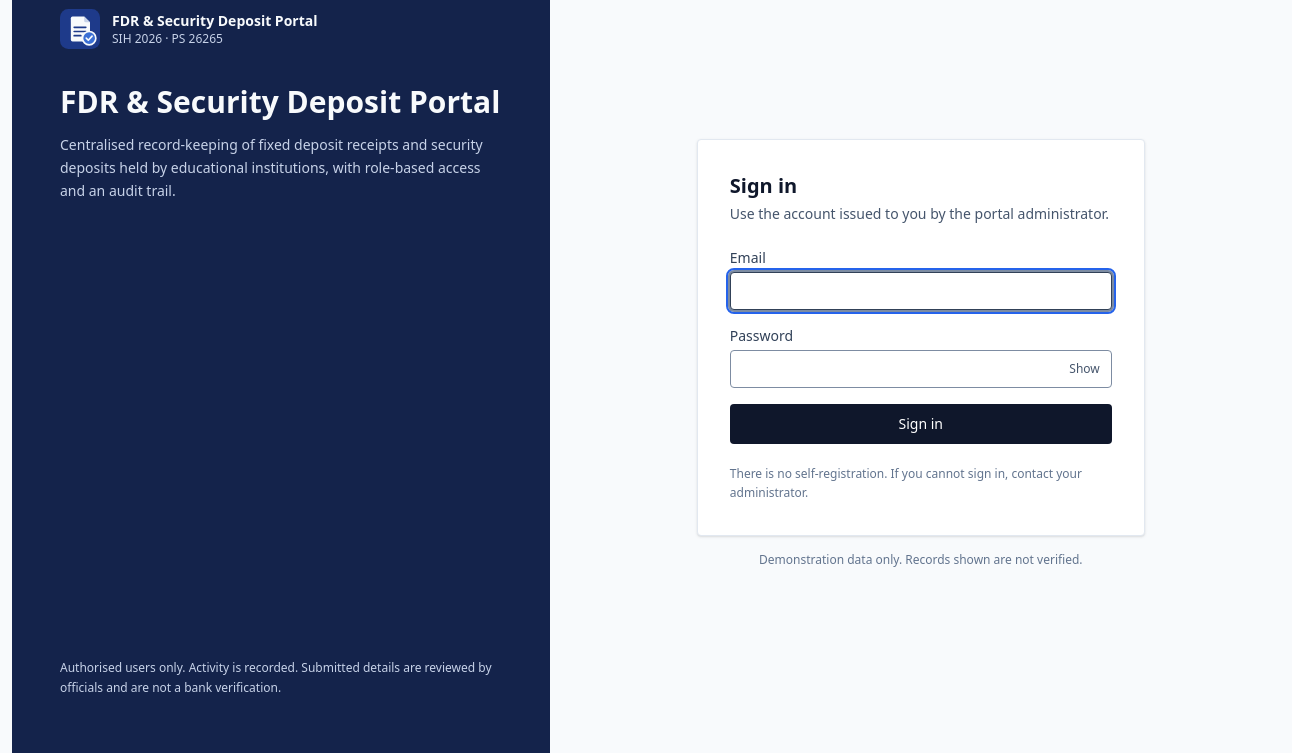
Scenario: returning to the requested page after sign-in › lands on the originally requested route
Type "officer@example.invalid" into the field labelled "Email".
click(921, 290); type("officer@example.invalid")  # box [730,272,1112,310]
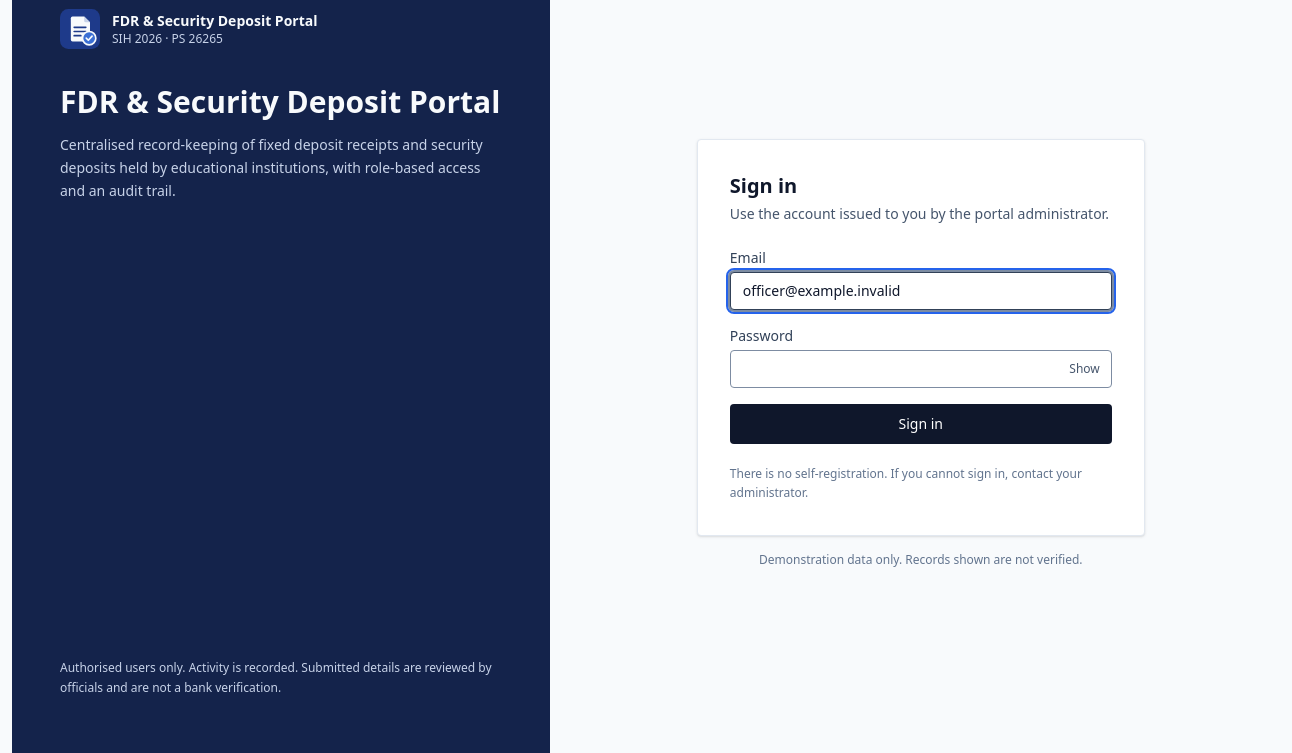
Type "a-long-enough-password" into the password field labelled "Password".
click(921, 368); type("a-long-enough-password")  # box [730,350,1112,388]
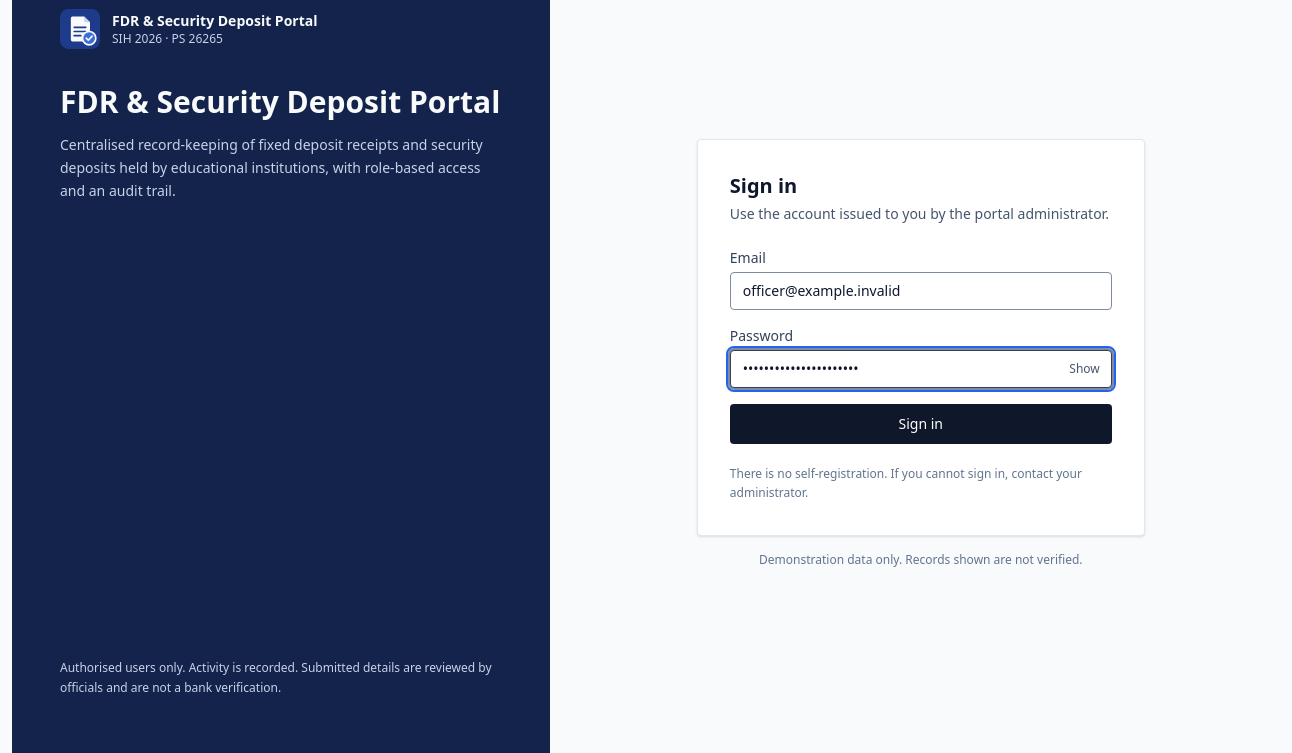
Click the button "Sign in".
click(921, 424)  # box [730,404,1112,444]
(page scrolled)
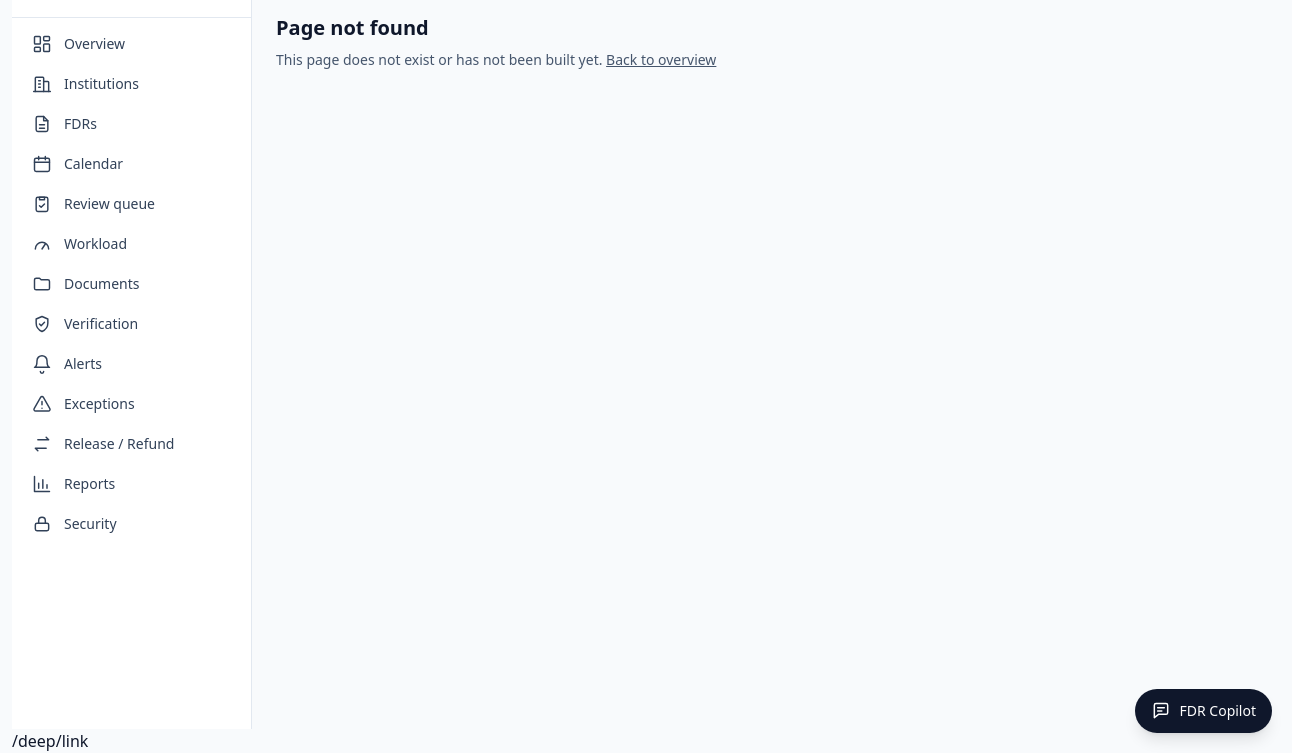
Expected: the heading "Page not found" is shown, [276,14,429,41]
Expected: the text with test id "location" reads "/deep/link", [12,730,88,752]
